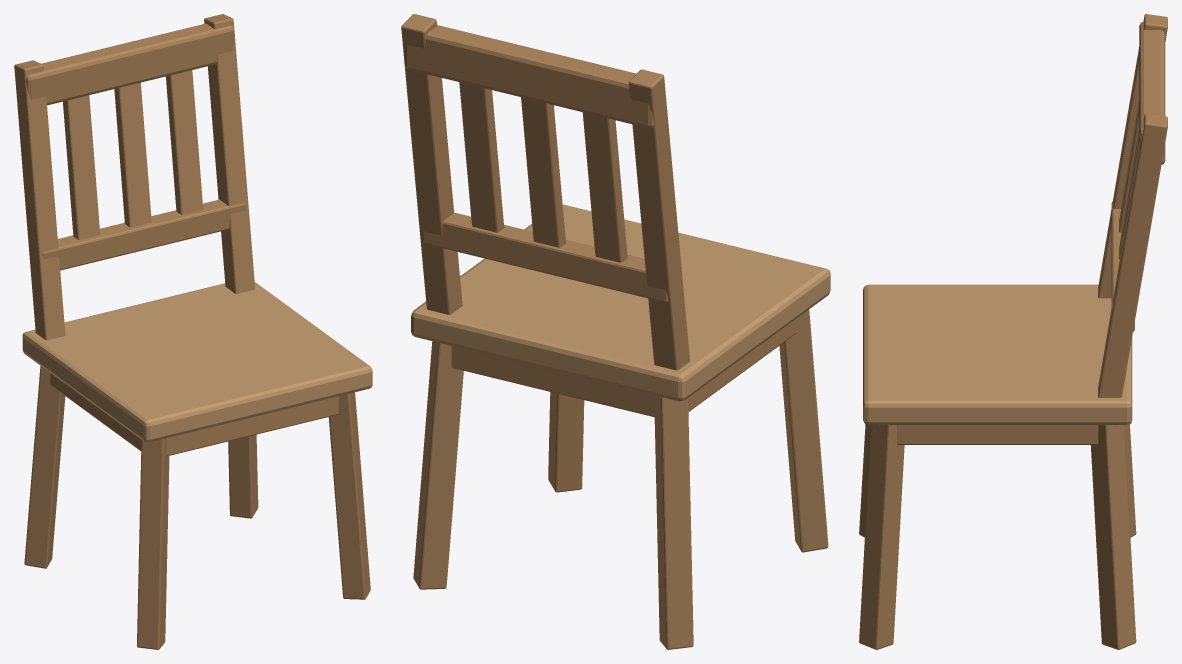
The model's file is chair_wooden_dining.glb.
3 renders of one model, left to right at view 1: azimuth 30°, elevation 25°; view 2: azimuth 150°, elevation 25°; view 3: azimuth 270°, elevation 25°, orthographic. The views are drawn at different scales.
Visible parts, largest first — view 1: WoodenDiningChair_Seat, WoodenDiningChair_Top_Rail, WoodenDiningChair_Back_Post, WoodenDiningChair_Back_Post.001, WoodenDiningChair_Leg, WoodenDiningChair_Leg.002, WoodenDiningChair_Lower_Back_Rail, WoodenDiningChair_Leg.001, WoodenDiningChair_Back_Slat.001, WoodenDiningChair_Back_Slat.002, WoodenDiningChair_Back_Slat, WoodenDiningChair_Front_Back_Apron (+2 smaller); view 2: WoodenDiningChair_Seat, WoodenDiningChair_Top_Rail, WoodenDiningChair_Back_Post, WoodenDiningChair_Back_Post.001, WoodenDiningChair_Leg.001, WoodenDiningChair_Leg.003, WoodenDiningChair_Lower_Back_Rail, WoodenDiningChair_Leg, WoodenDiningChair_Back_Slat, WoodenDiningChair_Back_Slat.001, WoodenDiningChair_Back_Slat.002, WoodenDiningChair_Front_Back_Apron.001 (+2 smaller); view 3: WoodenDiningChair_Seat, WoodenDiningChair_Leg.003, WoodenDiningChair_Leg.002, WoodenDiningChair_Back_Post.001, WoodenDiningChair_Side_Apron.001, WoodenDiningChair_Back_Post, WoodenDiningChair_Top_Rail, WoodenDiningChair_Lower_Back_Rail, WoodenDiningChair_Leg, WoodenDiningChair_Leg.001, WoodenDiningChair_Back_Slat.
Part boxes in pixels (bbox=[...]): WoodenDiningChair_Seat: bbox=[22, 282, 372, 442]; WoodenDiningChair_Top_Rail: bbox=[26, 23, 234, 105]; WoodenDiningChair_Back_Post: bbox=[14, 60, 65, 340]; WoodenDiningChair_Back_Post.001: bbox=[204, 14, 255, 293]; WoodenDiningChair_Leg: bbox=[137, 438, 169, 649]; WoodenDiningChair_Leg.002: bbox=[328, 392, 370, 599]; WoodenDiningChair_Lower_Back_Rail: bbox=[42, 199, 246, 270]; WoodenDiningChair_Leg.001: bbox=[24, 366, 65, 568]; WoodenDiningChair_Back_Slat.001: bbox=[114, 82, 151, 227]; WoodenDiningChair_Back_Slat.002: bbox=[166, 70, 203, 214]; WoodenDiningChair_Back_Slat: bbox=[63, 95, 100, 239]; WoodenDiningChair_Front_Back_Apron: bbox=[152, 393, 352, 456]; WoodenDiningChair_Seat: bbox=[411, 204, 830, 401]; WoodenDiningChair_Top_Rail: bbox=[404, 25, 654, 128]; WoodenDiningChair_Back_Post: bbox=[628, 69, 689, 370]; WoodenDiningChair_Back_Post.001: bbox=[401, 14, 462, 314]; WoodenDiningChair_Leg.001: bbox=[654, 396, 693, 649]; WoodenDiningChair_Leg.003: bbox=[413, 341, 463, 589]; WoodenDiningChair_Lower_Back_Rail: bbox=[422, 212, 668, 302]; WoodenDiningChair_Leg: bbox=[779, 309, 828, 552]; WoodenDiningChair_Back_Slat: bbox=[582, 112, 627, 262]; WoodenDiningChair_Back_Slat.001: bbox=[521, 97, 565, 247]; WoodenDiningChair_Back_Slat.002: bbox=[459, 82, 504, 232]; WoodenDiningChair_Front_Back_Apron.001: bbox=[435, 342, 675, 417]; WoodenDiningChair_Seat: bbox=[863, 284, 1132, 424]; WoodenDiningChair_Leg.003: bbox=[1090, 425, 1136, 649]; WoodenDiningChair_Leg.002: bbox=[859, 425, 904, 649]; WoodenDiningChair_Back_Post.001: bbox=[1098, 113, 1167, 397]; WoodenDiningChair_Side_Apron.001: bbox=[879, 425, 1116, 444]; WoodenDiningChair_Back_Post: bbox=[1098, 14, 1167, 298]; WoodenDiningChair_Top_Rail: bbox=[1139, 22, 1165, 164]; WoodenDiningChair_Lower_Back_Rail: bbox=[1111, 201, 1134, 331]; WoodenDiningChair_Leg: bbox=[859, 424, 870, 537]; WoodenDiningChair_Leg.001: bbox=[1124, 424, 1136, 537]; WoodenDiningChair_Back_Slat: bbox=[1119, 100, 1139, 232].
Size of the model in its own units: 0.4899 by 0.973 by 0.5213.
